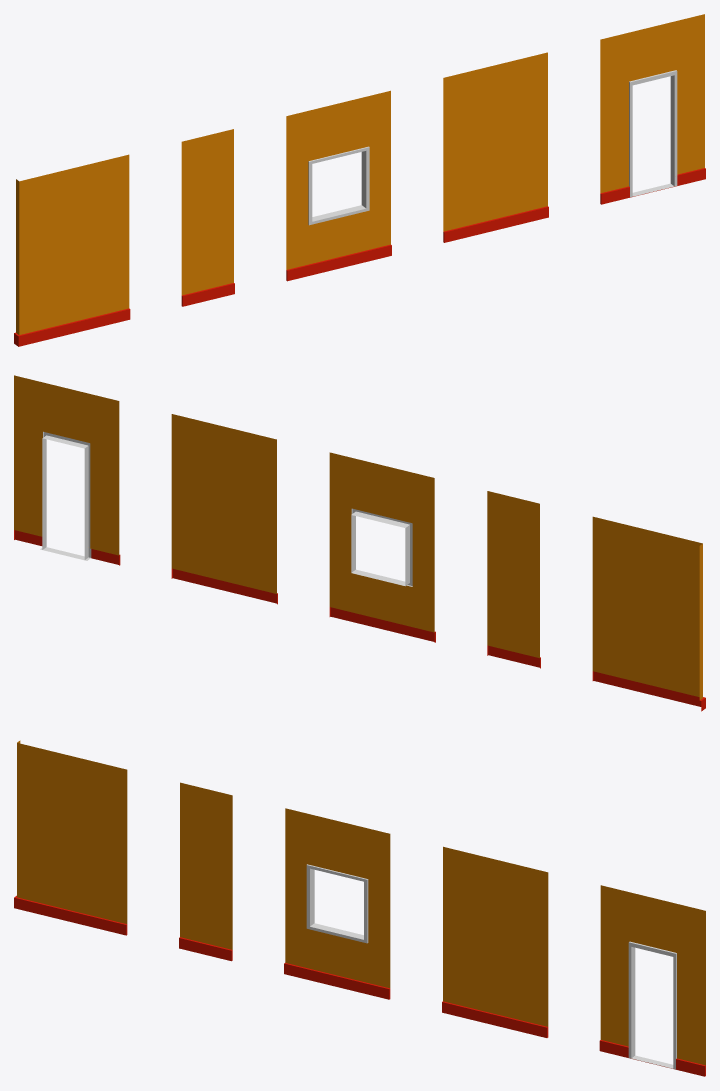
Rendered from Walls.fbx.
3 views of the same model, one above another, from view 1: azimuth 30°, elevation 25°; view 2: azimuth 150°, elevation 25°; view 3: azimuth 330°, elevation 25° (orthographic).
Parts seen in each view (by area): view 1: NormalWall.002, NormalWall, WindowWall, DoorWall, NormalWall.001; view 2: NormalWall.002, NormalWall, WindowWall, DoorWall, NormalWall.001; view 3: NormalWall.002, NormalWall, WindowWall, DoorWall, NormalWall.001.
Boxes of the visible parts, box(x1,y1,x2,y2) form: NormalWall.002: box(14, 154, 130, 346); NormalWall: box(443, 52, 548, 242); WindowWall: box(286, 90, 391, 281); DoorWall: box(600, 14, 705, 204); NormalWall.001: box(181, 129, 234, 306); NormalWall.002: box(592, 516, 705, 711); NormalWall: box(171, 414, 277, 604); WindowWall: box(329, 452, 435, 642); DoorWall: box(14, 375, 120, 565); NormalWall.001: box(487, 491, 540, 668); NormalWall.002: box(14, 740, 127, 935); NormalWall: box(442, 846, 548, 1037); WindowWall: box(284, 808, 390, 999); DoorWall: box(599, 885, 705, 1076); NormalWall.001: box(179, 782, 232, 961).
Bounding box in the file's own units: 1314 × 300 × 16.36.
